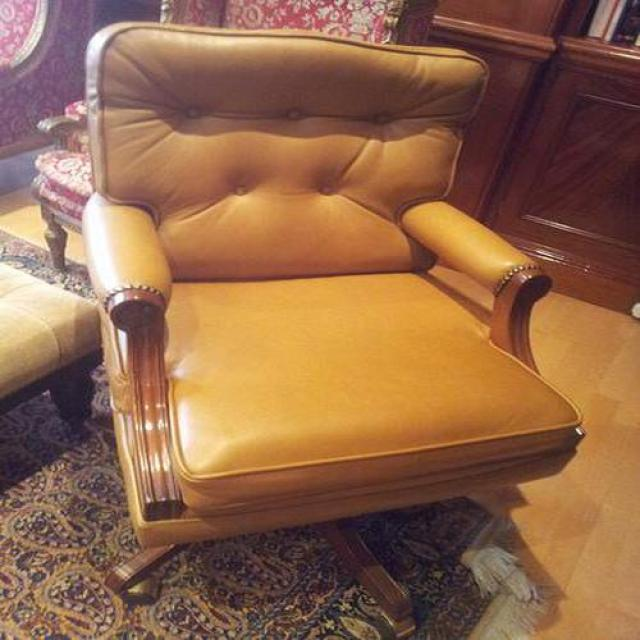swivelchair: (82, 22, 585, 640)
